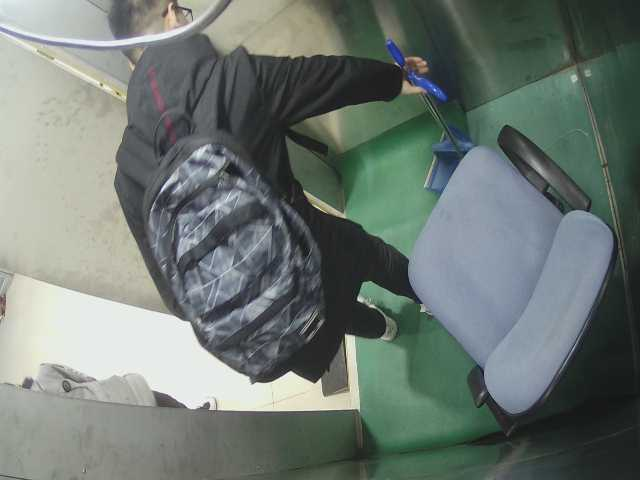bag: (126, 128, 340, 389)
broom: (378, 37, 484, 200)
chair: (396, 119, 604, 415)
person: (90, 2, 428, 343)
